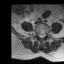CCS_normal: (41, 32, 42, 40)
LFS_normal: (44, 31, 46, 38)
LLS_normal: (42, 32, 44, 39)
RFS_normal: (37, 31, 39, 38)
RLS_normal: (39, 32, 41, 39)
